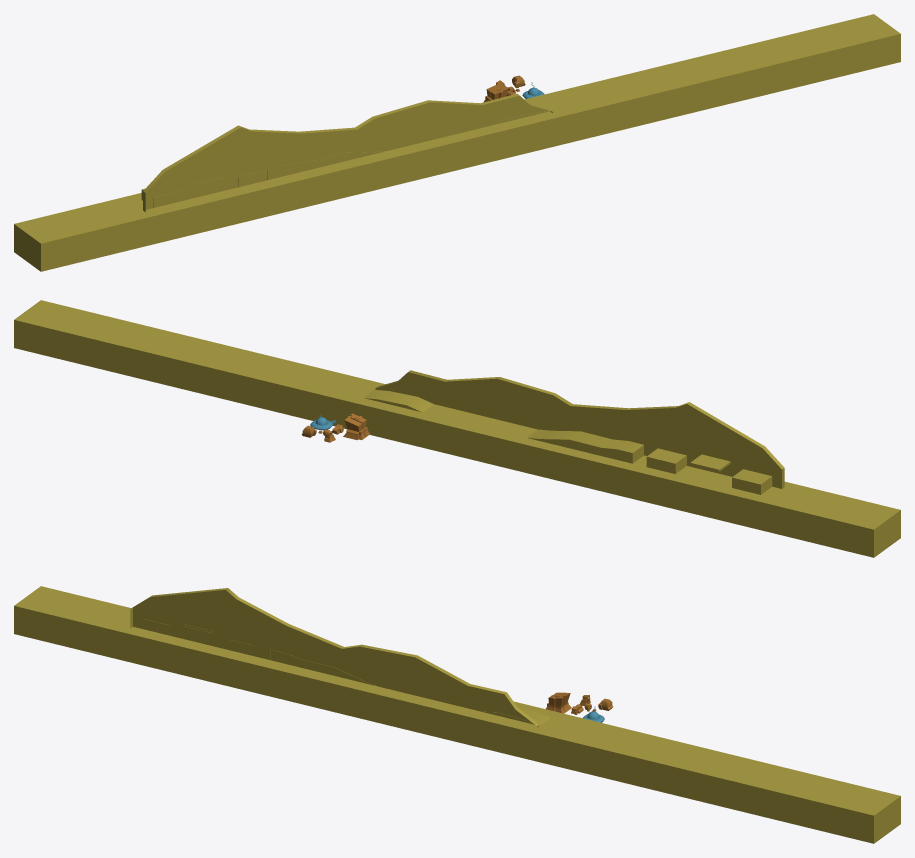
The model's file is Side Scroller Vertical Slice 1 Assets v3.fbx.
3 views of the same model, one above another, from view 1: azimuth 30°, elevation 25°; view 2: azimuth 150°, elevation 25°; view 3: azimuth 330°, elevation 25° (orthographic).
Visible parts, largest first — view 1: pCube33; view 2: pCube33; view 3: pCube33.
Part boxes in pixels (<box>): pCube33: <box>14,14,900,271</box>; pCube33: <box>14,300,900,557</box>; pCube33: <box>14,586,900,843</box>.
Bounding box in the file's own units: 193 × 19.3 × 23.13.
